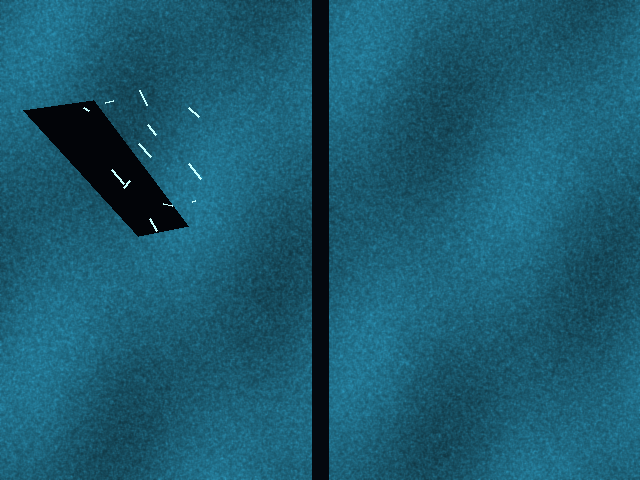Ghost Net: (83, 100, 198, 226)
